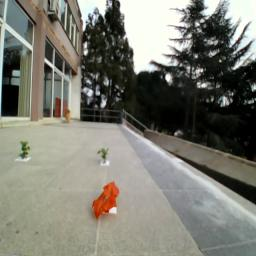herb: (19, 141, 32, 161), (98, 148, 110, 165)
wild: (92, 182, 122, 221)
